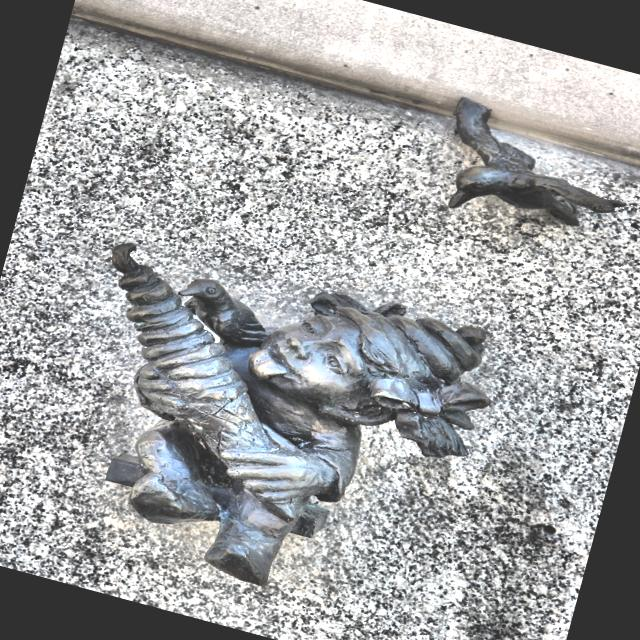Dziupelka: (107, 244, 491, 587), (450, 99, 617, 225)
